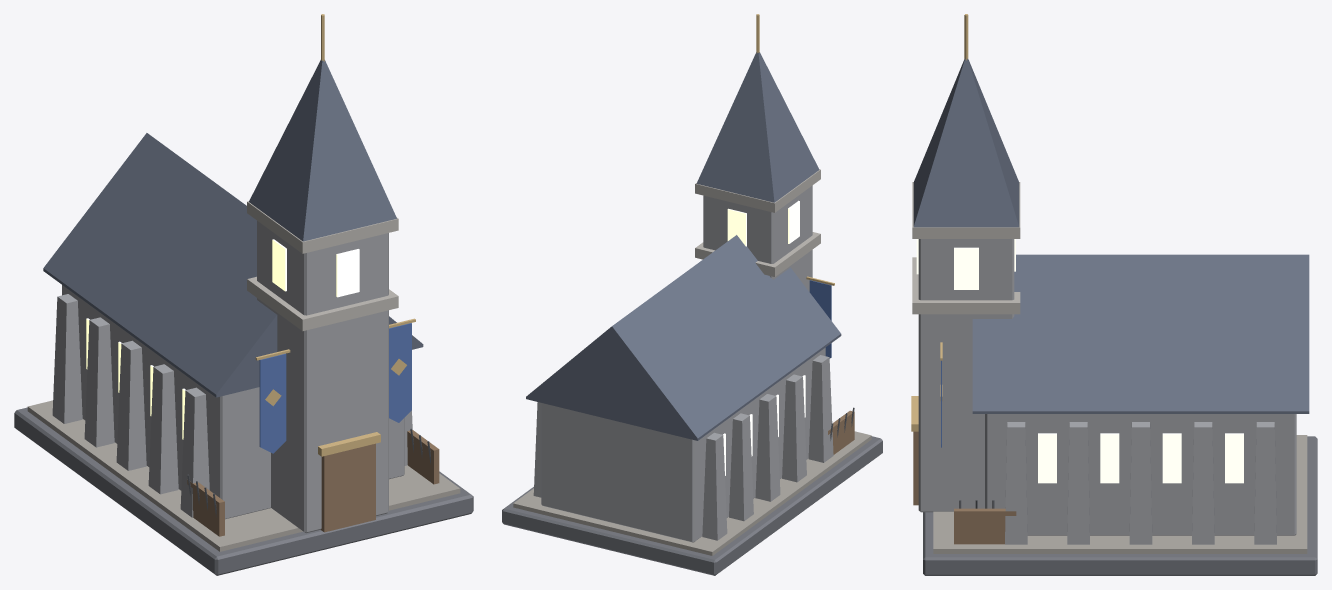
The model's file is barracks.glb.
3 renders of one model, left to right at view 1: azimuth 30°, elevation 25°; view 2: azimuth 150°, elevation 25°; view 3: azimuth 270°, elevation 25°, orthographic. The views are drawn at different scales.
Visible parts, largest first — view 1: barracks; view 2: barracks; view 3: barracks.
Boxes of the visible parts, x1,y1,x2,y2 form: barracks: [14, 14, 473, 575]; barracks: [502, 14, 882, 575]; barracks: [911, 14, 1317, 575].
Bounding box in the file's own units: 14 × 26.6 × 19.55.
